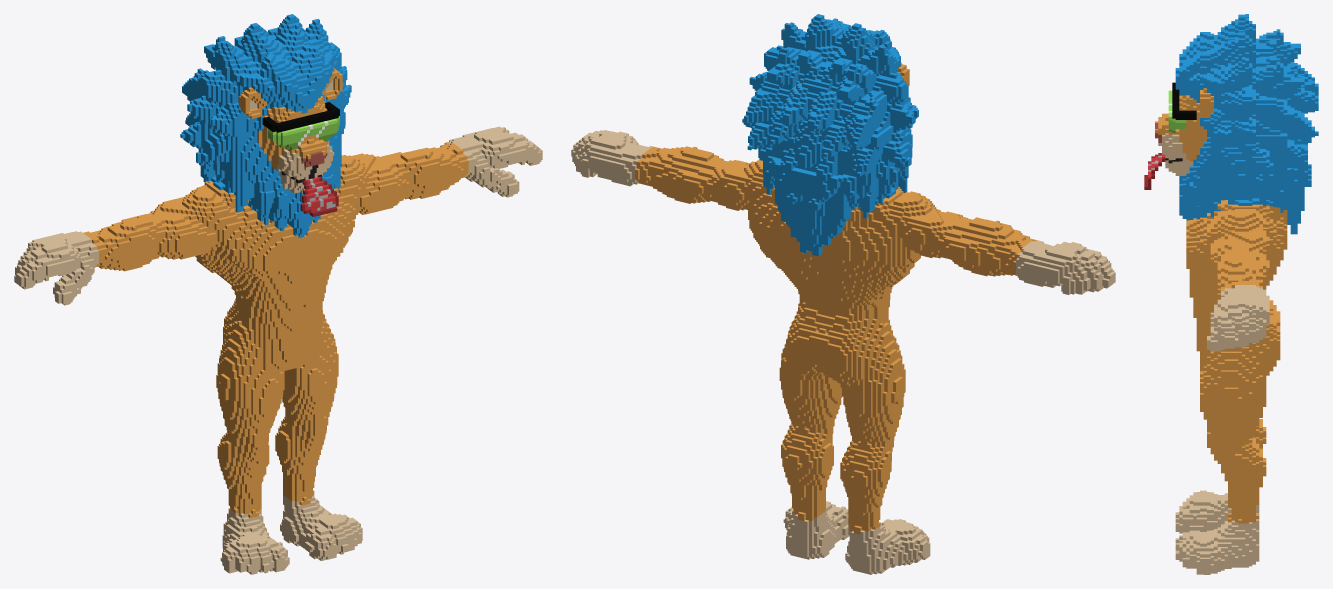
Rendered from 935-DIUJUQa-.glb.
The picture shows the model from 3 angles, left to right: view 1: azimuth 30°, elevation 25°; view 2: azimuth 150°, elevation 25°; view 3: azimuth 270°, elevation 25°; orthographic projection. The views are drawn at different scales.
Visible parts, largest first — view 1: meat; view 2: meat; view 3: meat.
Boxes of the visible parts, x1,y1,x2,y2 form: meat: (14,14,542,574); meat: (571,14,1115,574); meat: (1144,14,1318,574).
Bounding box in the file's own units: 17.2 × 16.5 × 5.
4 materials, 4 textured.
